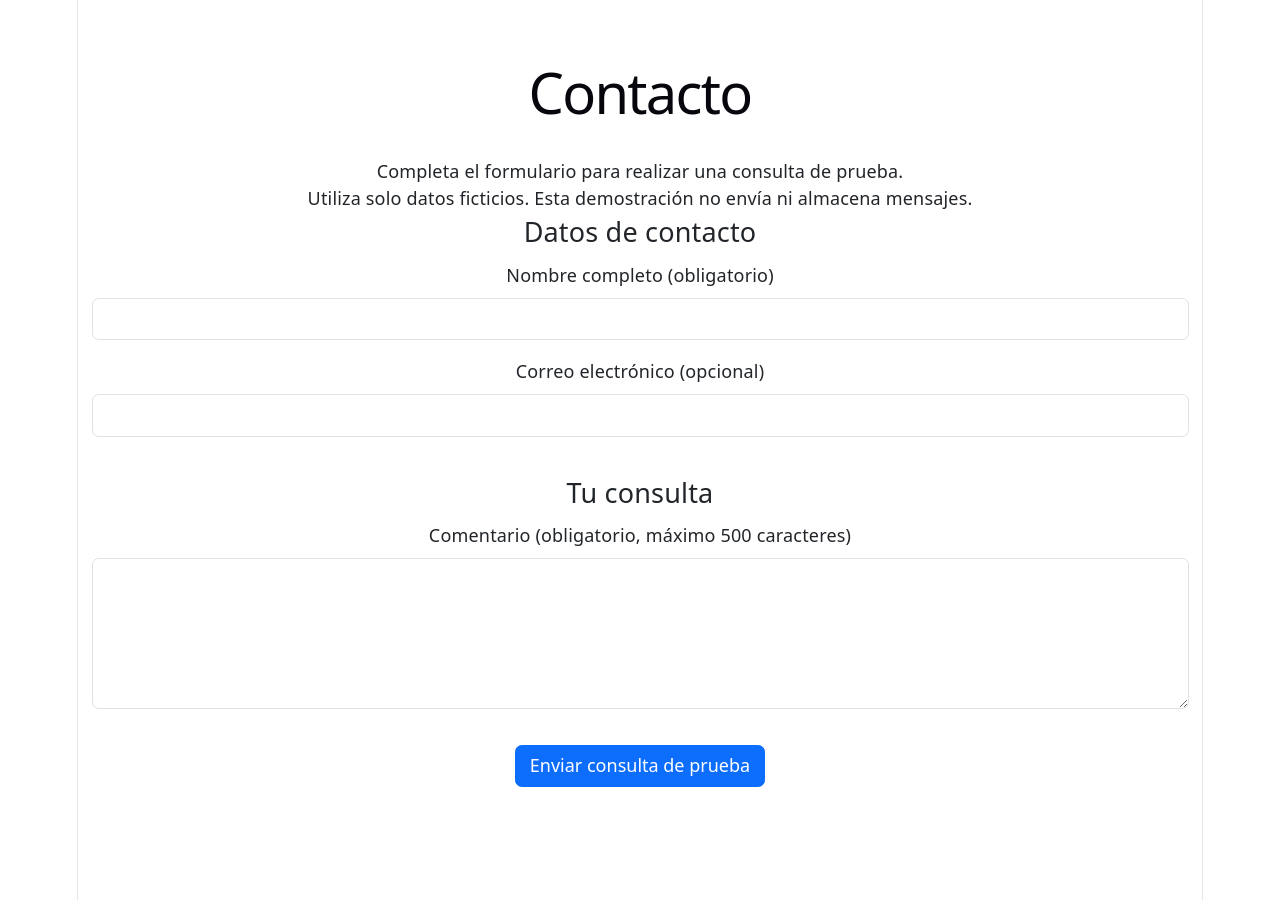
Test: Contacto › acepta el correo opcional y confirma la consulta de prueba
Type "Camila Pérez" into the field labelled "Nombre completo (obligatorio)".
click(640, 319); type("Camila Pérez")  # box [92,298,1188,340]
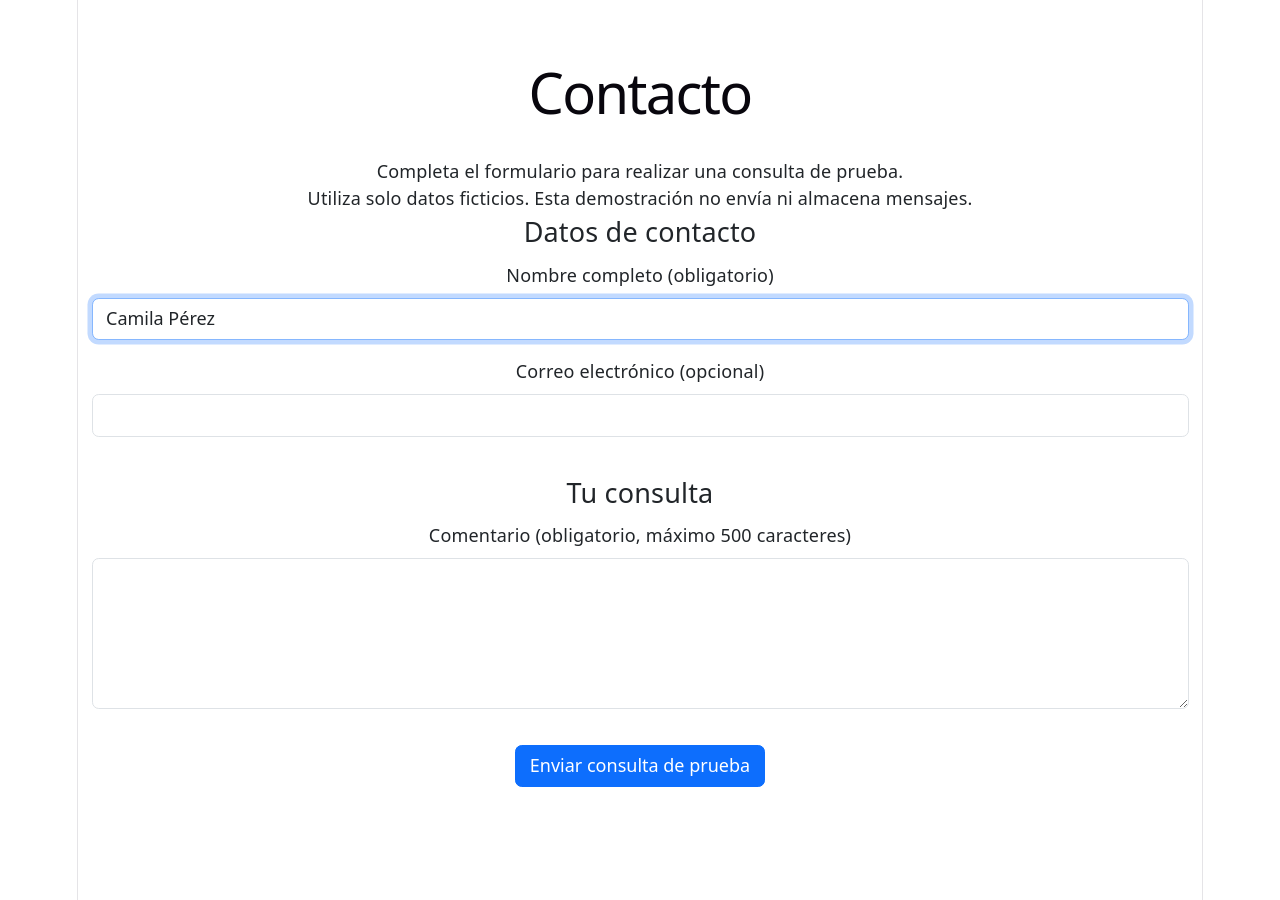
Type "Consulta por vacunación" into the text box labelled "Comentario (obligatorio, máximo 500 caracteres)".
click(640, 633); type("Consulta por vacunación")  # box [92,558,1188,709]
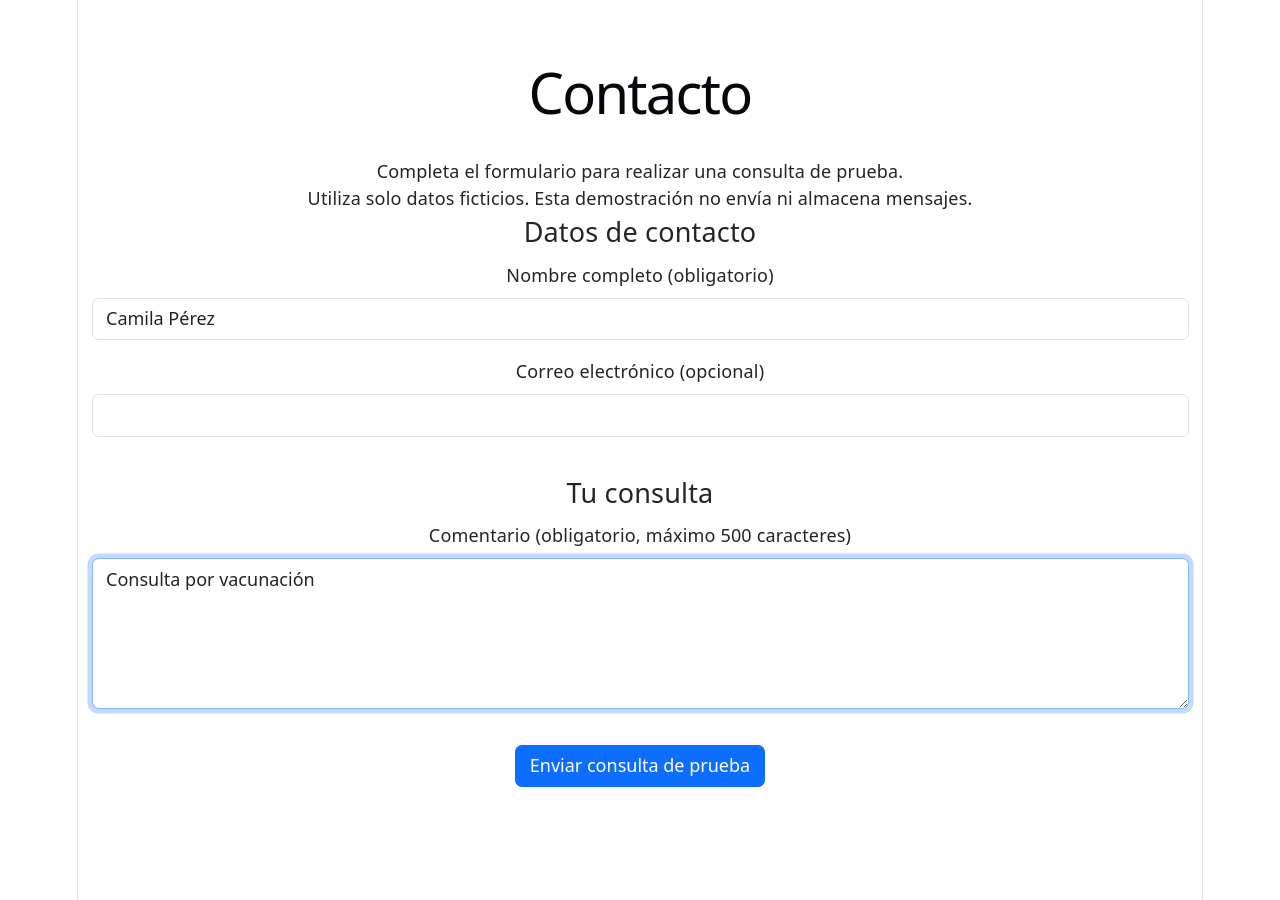
Click the button "Enviar consulta de prueba".
click(640, 766)  # box [515,745,765,787]
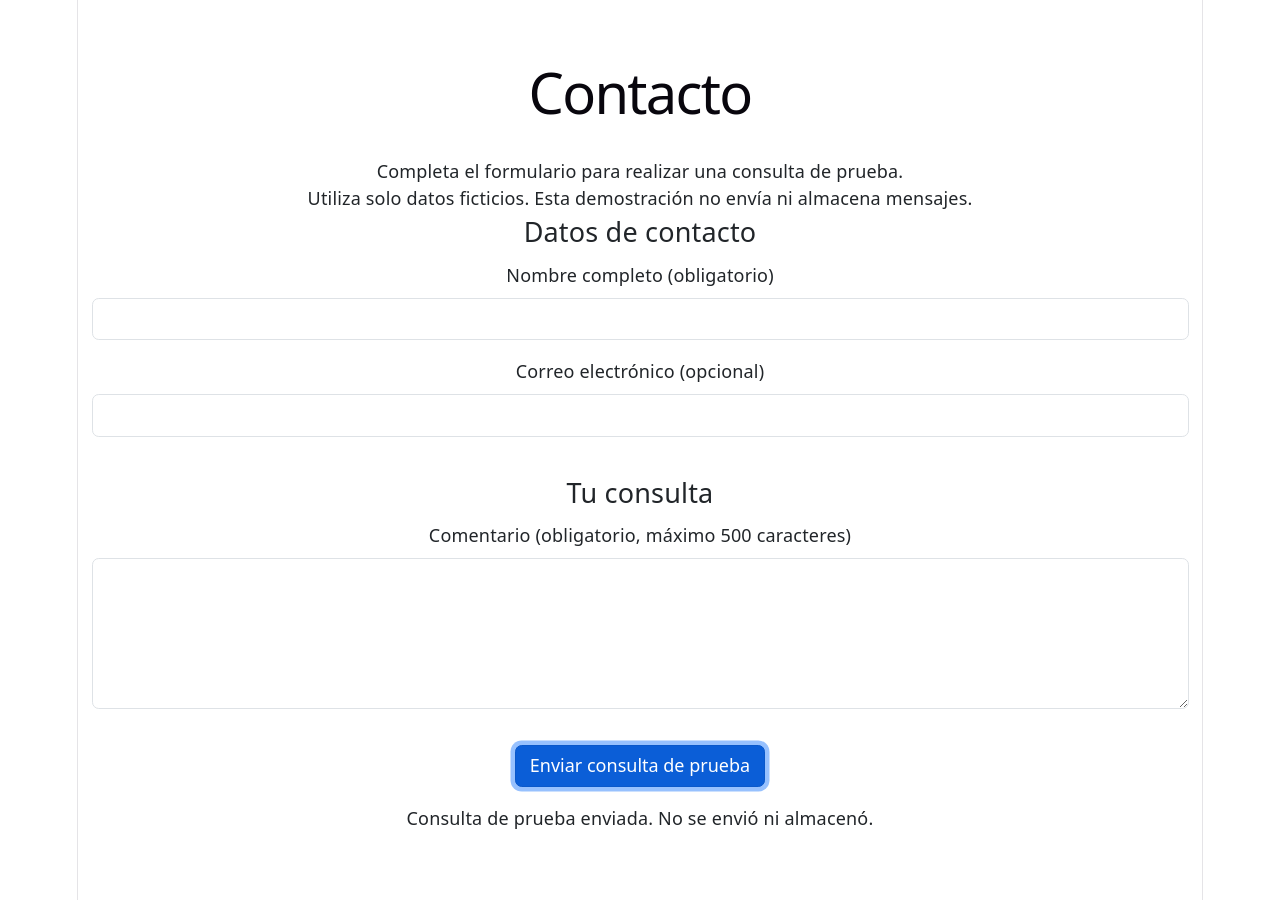
Expected: the message reads "Consulta de prueba enviada. No se envió ni almacenó.", [407,806,874,830]
Expected: the field labelled "Nombre completo (obligatorio)" is empty, [92,298,1188,340]
Expected: the text box labelled "Comentario (obligatorio, máximo 500 caracteres)" is empty, [92,558,1188,709]
